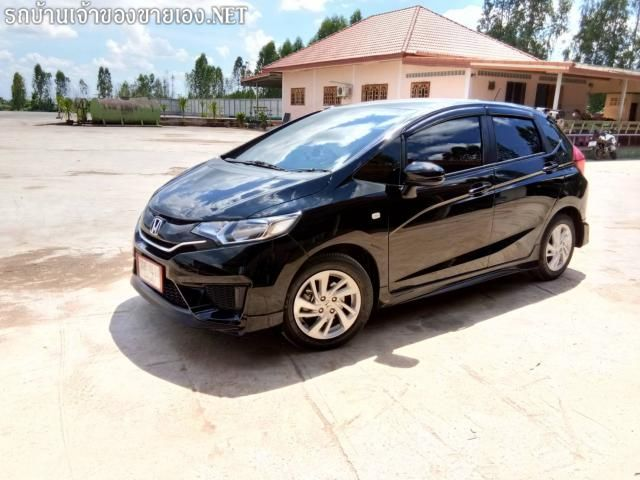sedan: (128, 94, 594, 353)
